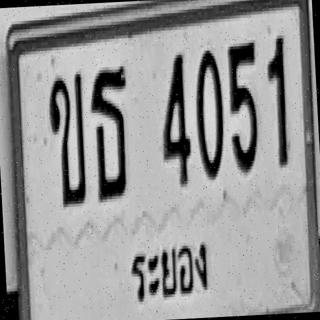A02: (46, 71, 88, 208)
A24: (88, 63, 132, 200)
N00: (193, 47, 226, 180)
N01: (265, 34, 290, 167)
N04: (158, 50, 192, 186)
N05: (226, 40, 261, 173)
P53: (123, 232, 218, 311)
